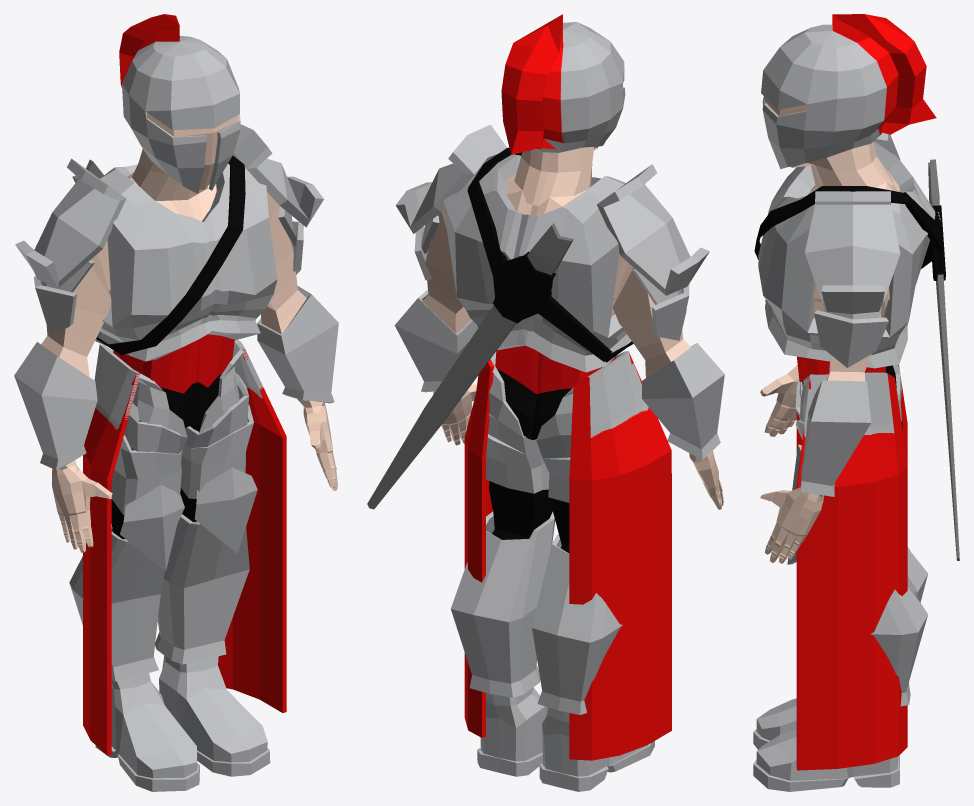
Rendered from KnightFinal.fbx.
The picture shows the model from 3 angles, left to right: view 1: azimuth 30°, elevation 25°; view 2: azimuth 150°, elevation 25°; view 3: azimuth 270°, elevation 25°; orthographic projection. The views are drawn at different scales.
Parts seen in each view (by area): view 1: Knight; view 2: Knight; view 3: Knight.
Boxes of the visible parts, x1,y1,x2,y2 form: Knight: (14,14,338,791); Knight: (367,14,724,791); Knight: (753,14,959,791).
Bounding box in the file's own units: 170 × 398 × 99.93.
